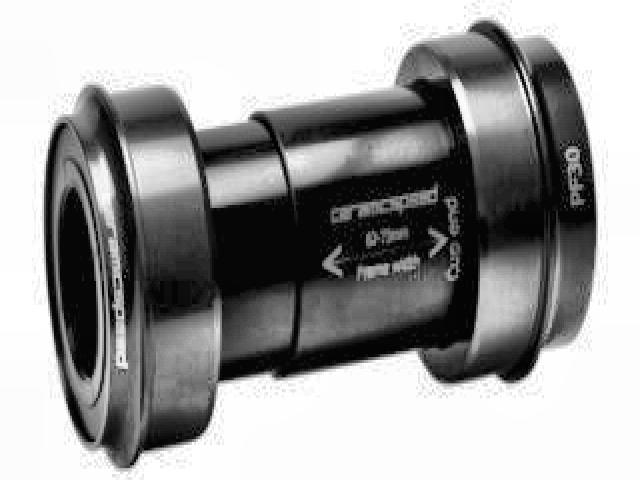bottom_bracket: (38, 13, 599, 471)
